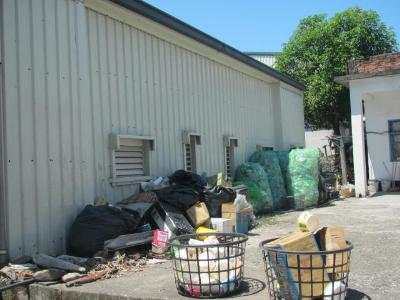plastic_bag: (68, 201, 144, 261), (249, 146, 288, 213), (288, 145, 322, 213), (234, 161, 275, 215), (155, 167, 204, 209), (199, 183, 236, 221)
